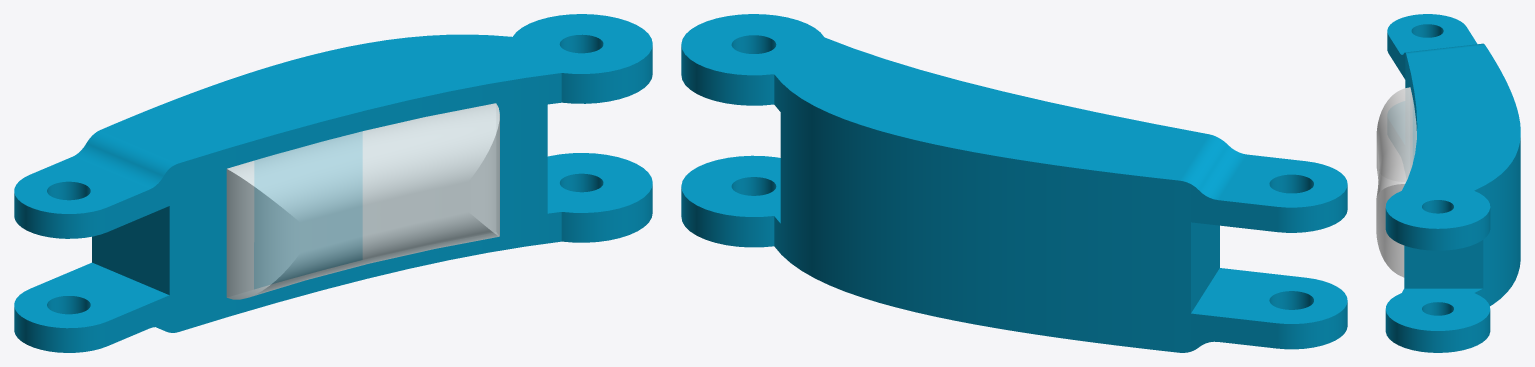
Rendered from ProximalPhalang.dae.
The picture shows the model from 3 angles, left to right: view 1: azimuth 30°, elevation 25°; view 2: azimuth 150°, elevation 25°; view 3: azimuth 270°, elevation 25°; orthographic projection. The views are drawn at different scales.
Parts seen in each view (by area): view 1: ProximalPhalang, SoftPad; view 2: ProximalPhalang; view 3: ProximalPhalang, SoftPad.
Part boxes in pixels (x1,y1,x2,y2): ProximalPhalang: (14, 14, 652, 352); SoftPad: (226, 103, 499, 299); ProximalPhalang: (681, 14, 1347, 352); ProximalPhalang: (1385, 14, 1520, 352); SoftPad: (1376, 87, 1416, 277).
Bounding box in the file's own units: 0.0663 × 0.0179 × 0.017.
